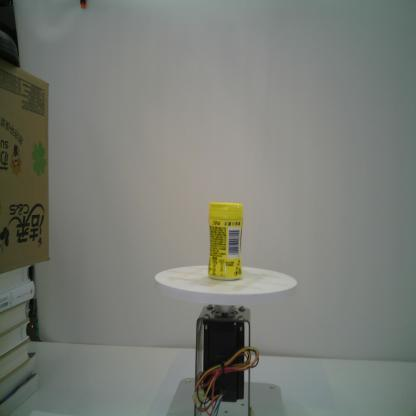Gum: (208, 202, 244, 281)
